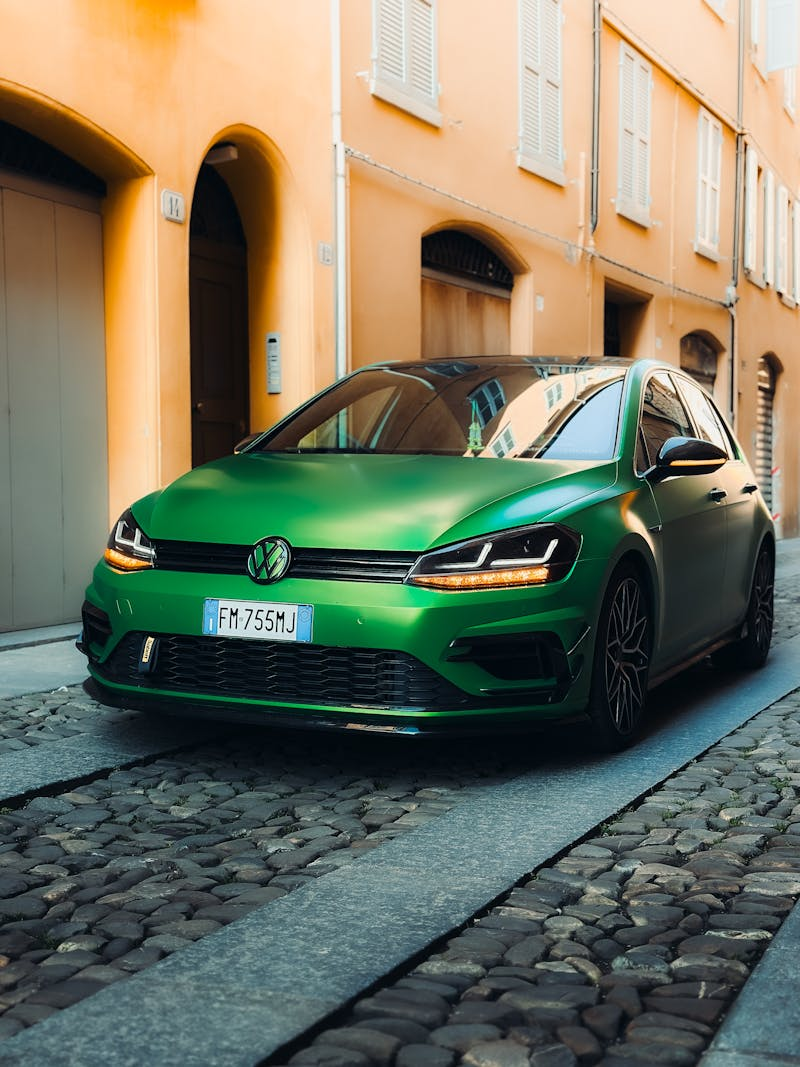other: (67, 333, 781, 747)
